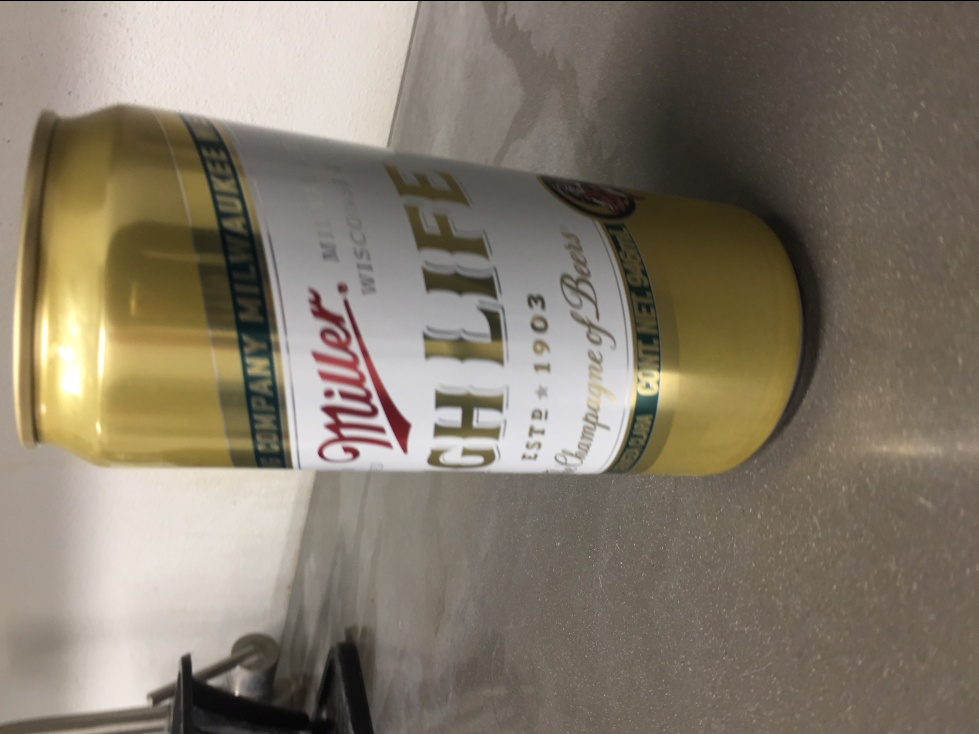miller: (10, 102, 811, 484)
